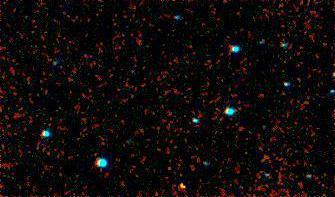star: (164, 164, 194, 194)
